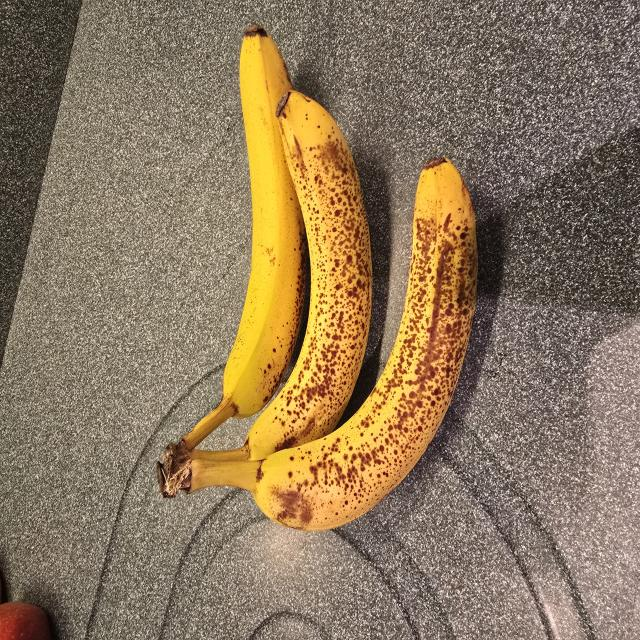Banana: (191, 159, 477, 529), (185, 25, 307, 449), (242, 90, 372, 460)
